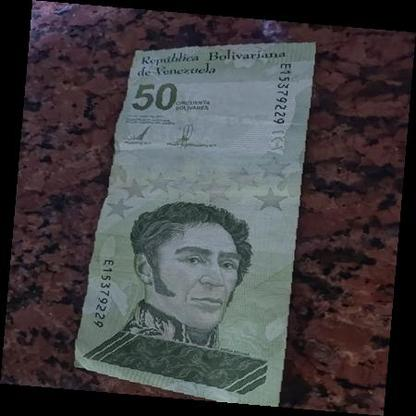vef_front: (72, 41, 316, 406)
